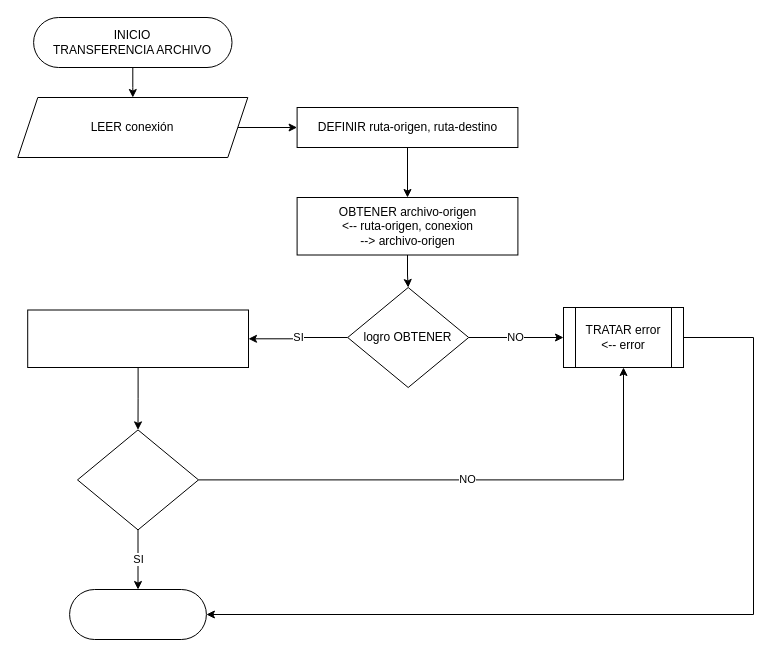
The diagram is 779 pixels wide and 657 high, and some of its shapes have lost their labels. The shapes that lost their labels are listed below. From the top down, each one's centre as x and y in pixels, then its label:
At point 137,338: "MOVER archivo <-- archivo-origen, ruta-destino --> archivo-destino".
At point 137,479: "logro MOVER".
At point 137,614: "FIN".
